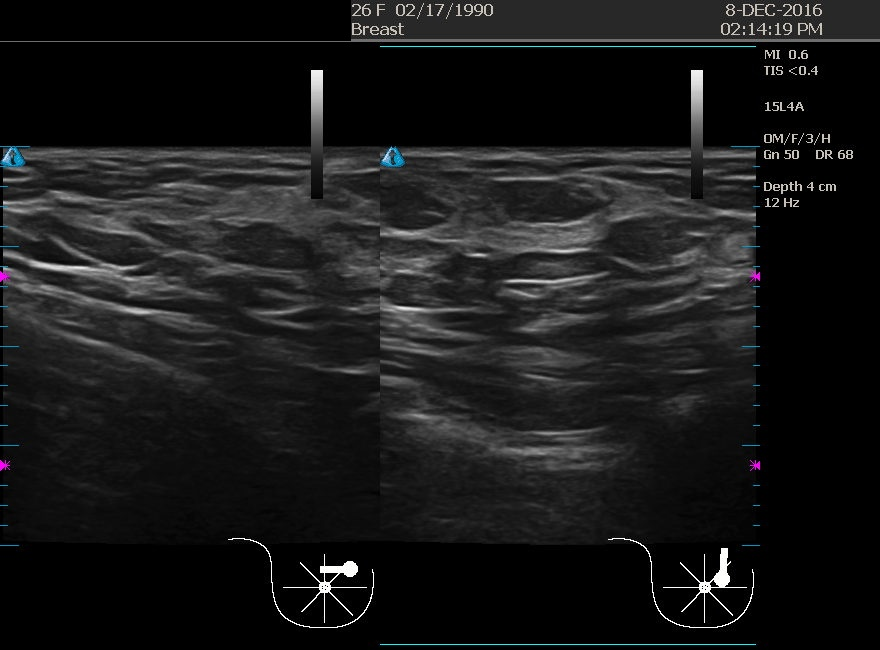BIRADS_2: (173, 203, 374, 404)
BIRADS_3: (539, 203, 739, 404)
